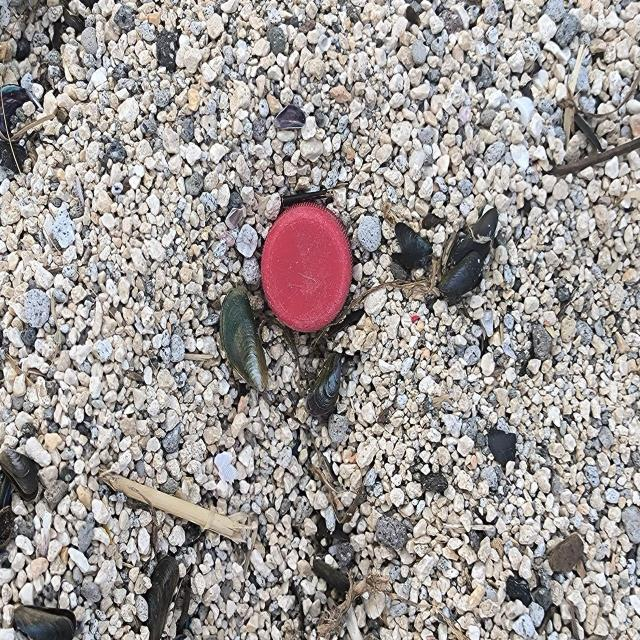plastic_waste: (259, 202, 355, 336)
